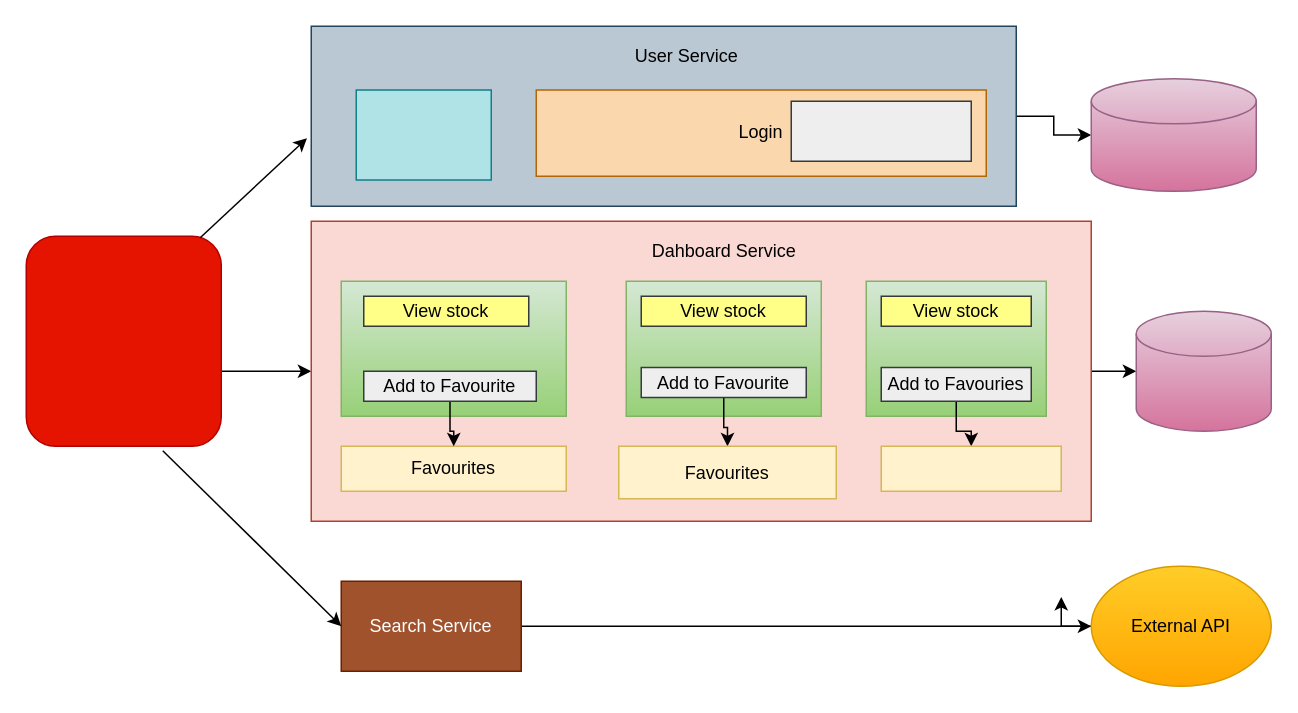
This 1298x713 diagram has some shape labels left out. Here are the shapes that lost their labels. From the top down, the centre of each, then its label:
At (x=423, y=134): "Register".
At (x=880, y=130): "JWT Authentication(Token is generated)".
At (x=1173, y=134): "MY SQL".
At (x=123, y=340): "Angular 8".
At (x=1203, y=370): "MONGO DB".
At (x=970, y=468): "Favorites".
